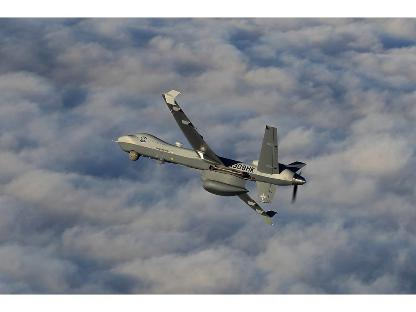MQ9: (110, 90, 306, 224)
